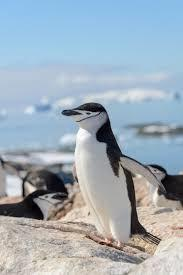chinstrap: (42, 92, 174, 272)
